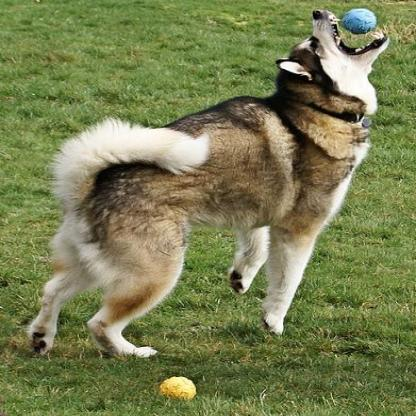malamute: (26, 5, 390, 357)
